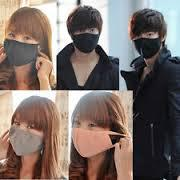OK: (74, 118, 110, 157), (6, 29, 41, 69), (12, 118, 47, 157), (132, 29, 164, 60), (73, 24, 102, 56)
